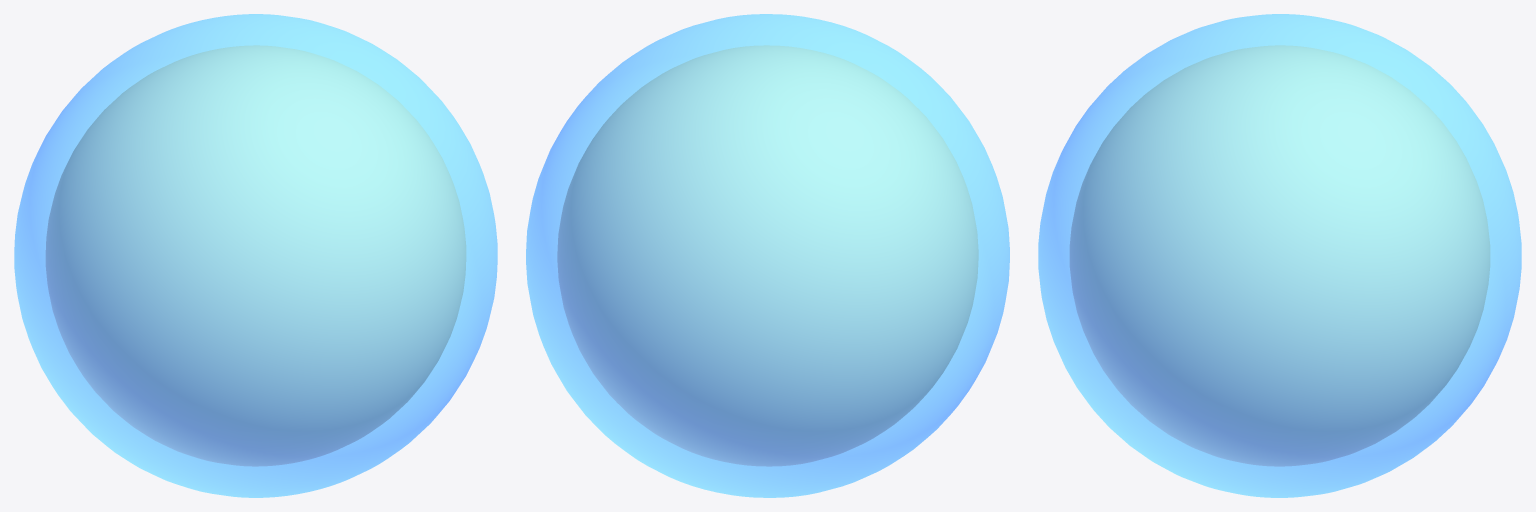
File: degisikgunes.fbx
The picture shows the model from 3 angles, left to right: view 1: azimuth 30°, elevation 25°; view 2: azimuth 150°, elevation 25°; view 3: azimuth 270°, elevation 25°; orthographic projection.
Parts seen in each view (by area): view 1: Sphere.001, Sphere; view 2: Sphere.001, Sphere; view 3: Sphere.001, Sphere.
Part boxes in pixels (left/top/right/bottom): Sphere.001: left=14, top=14, right=497, bottom=497; Sphere: left=46, top=45, right=465, bottom=466; Sphere.001: left=526, top=14, right=1009, bottom=497; Sphere: left=557, top=45, right=978, bottom=466; Sphere.001: left=1038, top=14, right=1521, bottom=497; Sphere: left=1070, top=45, right=1489, bottom=466.
Bounding box in the file's own units: 3402 × 3402 × 3401.
